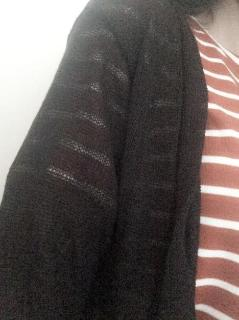long sleeve outwear: (0, 0, 210, 319)
